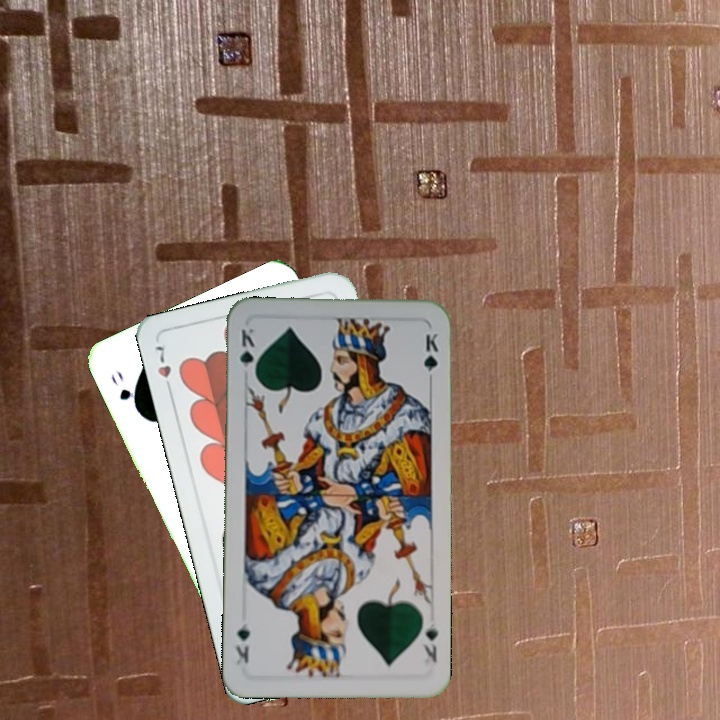GK: (235, 324, 258, 381), (418, 619, 440, 665)
GO: (106, 366, 142, 416)
H7: (151, 340, 175, 397)
